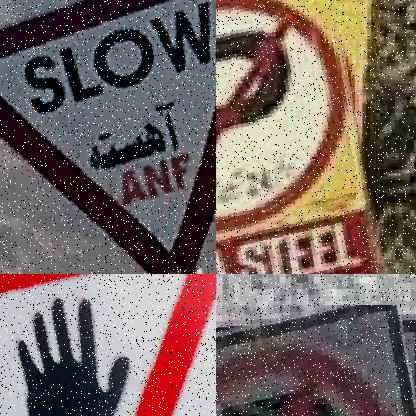No Parking: (216, 0, 377, 274), (216, 305, 416, 416)
Stop: (0, 274, 216, 416)
